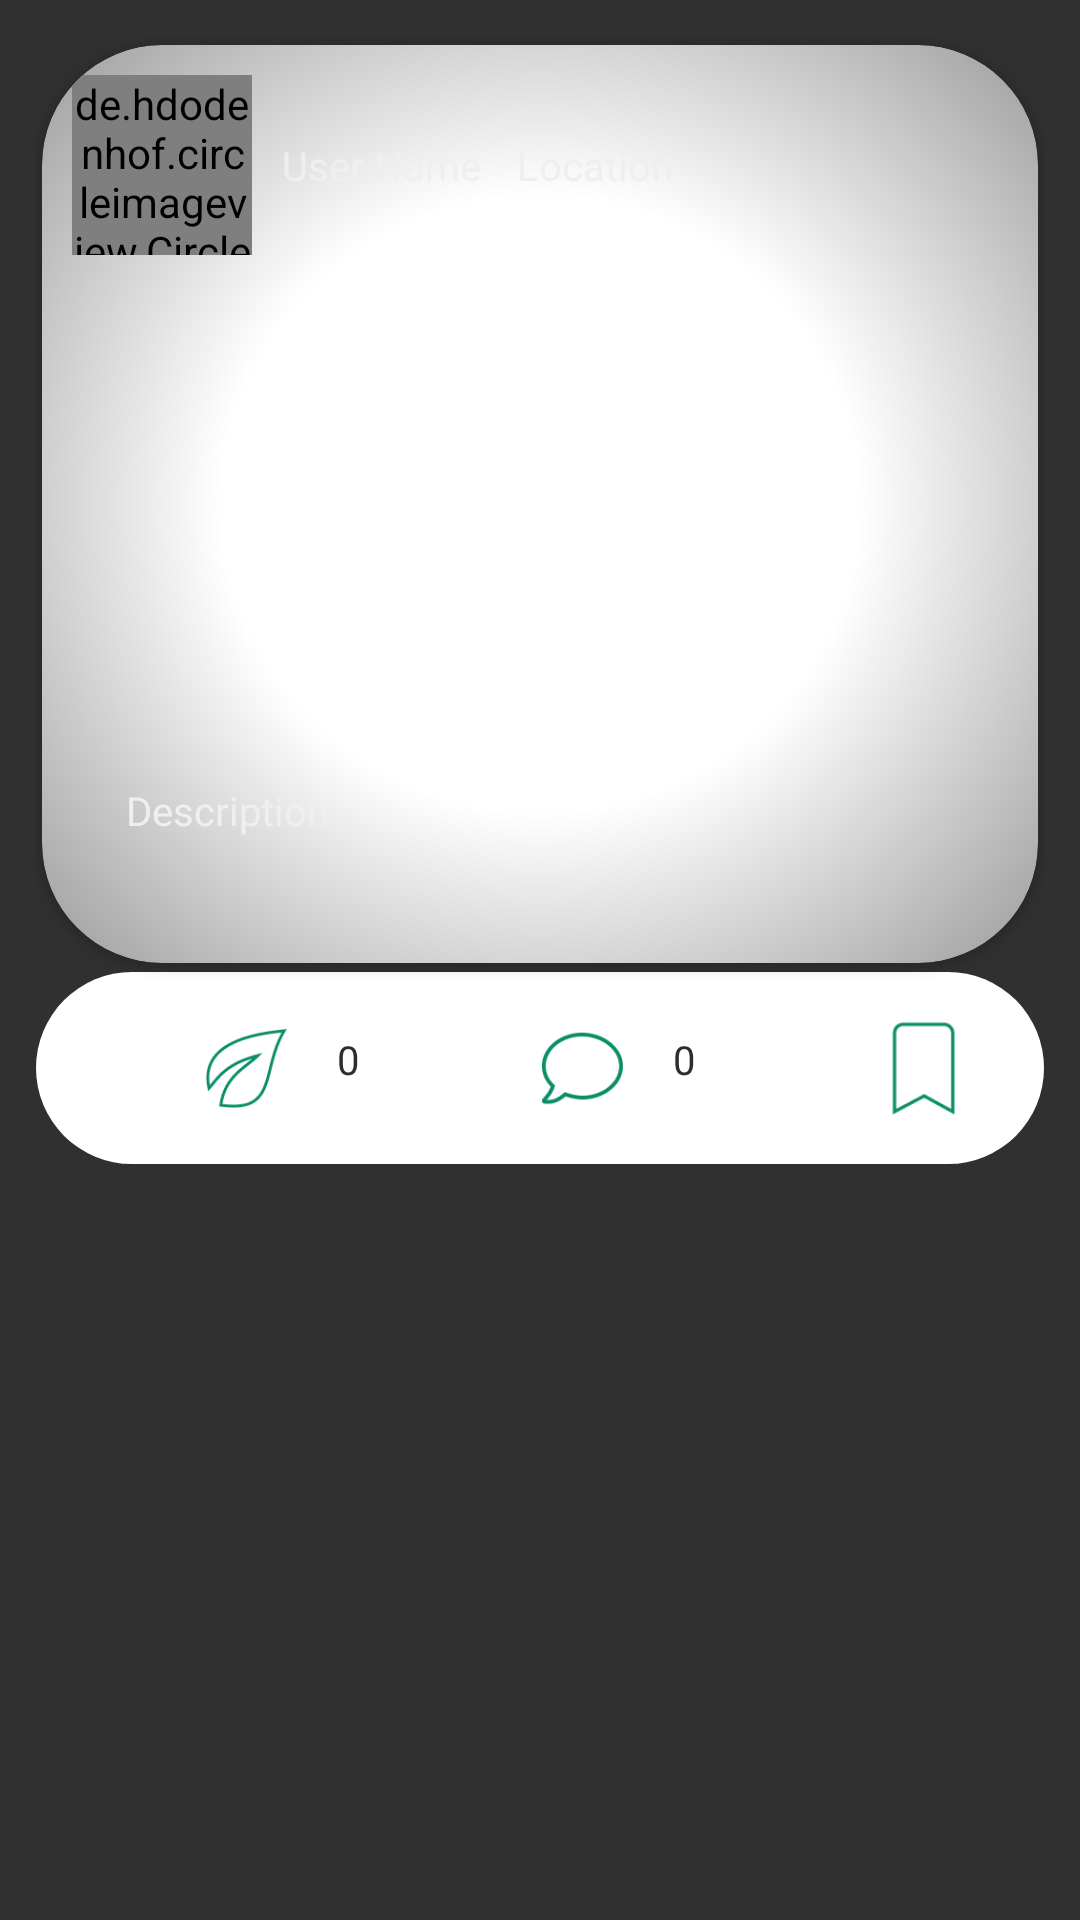

Icon bounding boxes for this 1080px x 1920px phone screenshot, format (x1, y1, x2, y2):
comment: (542, 1032, 623, 1105)
leaf: (206, 1029, 287, 1108)
